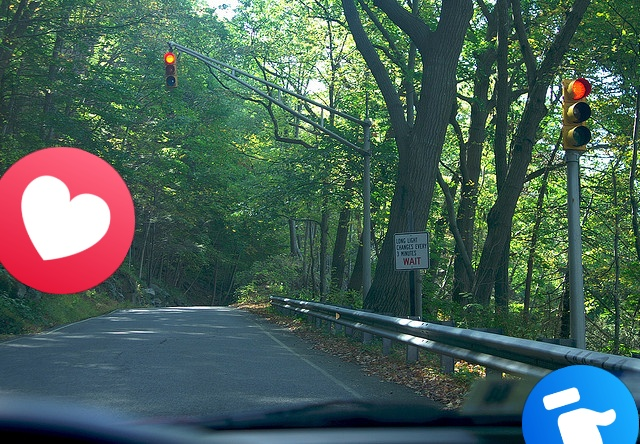like: (522, 365, 639, 444)
love: (0, 147, 135, 294)
